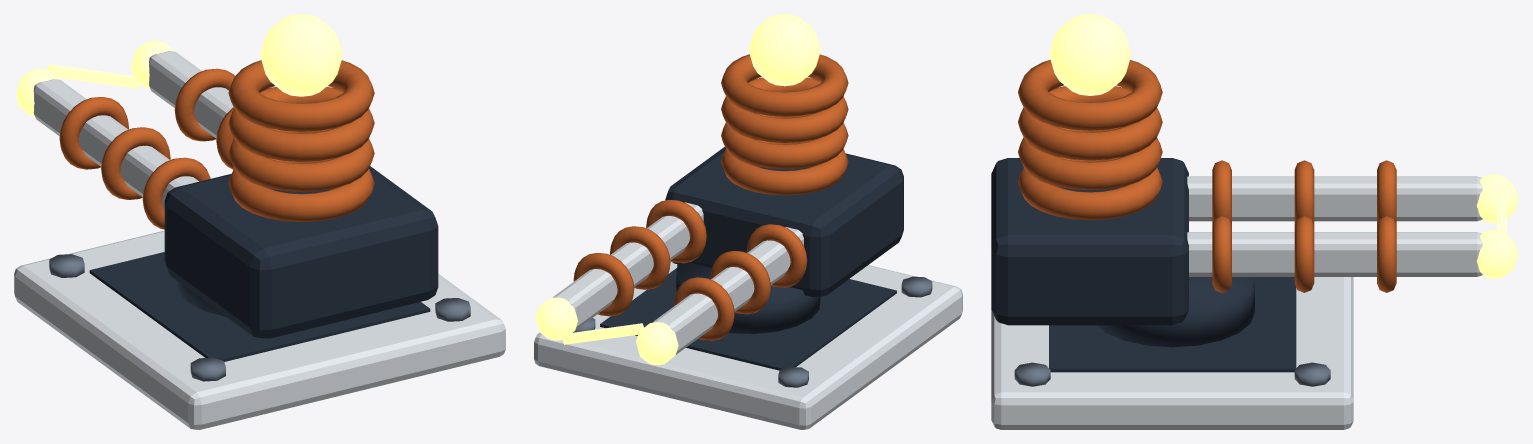
The model's file is lance.fbx.
3 views of the same model, side by side, from view 1: azimuth 30°, elevation 25°; view 2: azimuth 150°, elevation 25°; view 3: azimuth 270°, elevation 25° (orthographic). The views are drawn at different scales.
Parts seen in each view (by area): view 1: Panel_Plate0.010, Inset_Body0, Inset_Inset0.010, Copper_Coil3, Emit_Top0, Copper_Coil2, Panel_Prong0, Copper_Coil0, Copper_Coil1, Panel_Prong1, Copper_Wind1, Copper_Wind2 (+10 smaller); view 2: Panel_Plate0.010, Inset_Body0, Inset_Inset0.010, Copper_Coil3, Panel_Prong0, Panel_Prong1, Emit_Top0, Copper_Coil2, Copper_Coil0, Copper_Coil1, Inset_Ring0.010, Copper_Wind4 (+10 smaller); view 3: Panel_Plate0.010, Inset_Body0, Inset_Inset0.010, Panel_Prong0, Panel_Prong1, Copper_Coil3, Inset_Ring0.010, Emit_Top0, Copper_Coil2, Copper_Coil0, Copper_Coil1, Emit_Spark1 (+9 smaller).
Boxes of the visible parts, x1,y1,x2,y2 form: Panel_Plate0.010: [14, 230, 505, 429]; Inset_Body0: [164, 166, 438, 338]; Inset_Inset0.010: [89, 252, 430, 361]; Copper_Coil3: [228, 60, 374, 131]; Emit_Top0: [260, 14, 342, 96]; Copper_Coil2: [228, 87, 374, 161]; Panel_Prong0: [33, 79, 198, 208]; Copper_Coil0: [228, 158, 374, 221]; Copper_Coil1: [228, 128, 374, 191]; Panel_Prong1: [149, 51, 233, 138]; Copper_Wind1: [101, 127, 170, 199]; Copper_Wind2: [59, 97, 128, 169]; Panel_Plate0.010: [534, 261, 962, 429]; Inset_Body0: [665, 147, 903, 297]; Inset_Inset0.010: [600, 268, 896, 370]; Copper_Coil3: [721, 54, 848, 116]; Panel_Prong0: [653, 227, 803, 354]; Panel_Prong1: [553, 202, 703, 330]; Emit_Top0: [748, 14, 820, 86]; Copper_Coil2: [721, 77, 848, 142]; Copper_Coil0: [721, 140, 848, 195]; Copper_Coil1: [721, 113, 848, 169]; Inset_Ring0.010: [676, 262, 820, 333]; Copper_Wind4: [610, 226, 670, 289]; Panel_Plate0.010: [991, 277, 1353, 429]; Inset_Body0: [991, 158, 1188, 325]; Inset_Inset0.010: [1049, 277, 1296, 372]; Panel_Prong0: [1187, 176, 1482, 221]; Panel_Prong1: [1187, 232, 1482, 276]; Copper_Coil3: [1018, 60, 1162, 130]; Inset_Ring0.010: [1097, 277, 1254, 347]; Emit_Top0: [1049, 14, 1131, 95]; Copper_Coil2: [1018, 86, 1162, 160]; Copper_Coil0: [1018, 157, 1162, 220]; Copper_Coil1: [1018, 127, 1162, 190]; Emit_Spark1: [1476, 230, 1518, 278].
Bounding box in the file's own units: 0.44 × 0.64 × 0.455.
